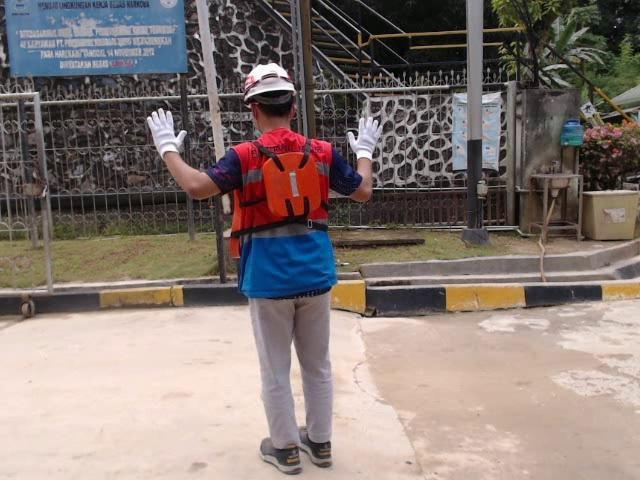vest: (254, 146, 328, 227)
